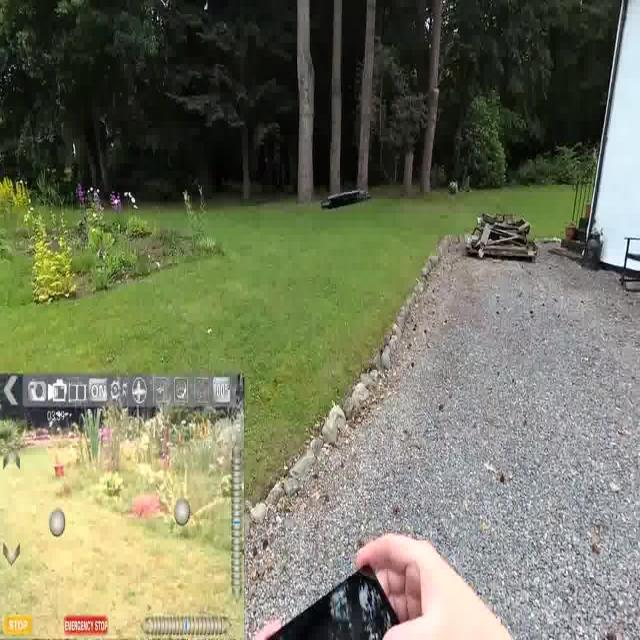drones: (312, 172, 380, 220)
